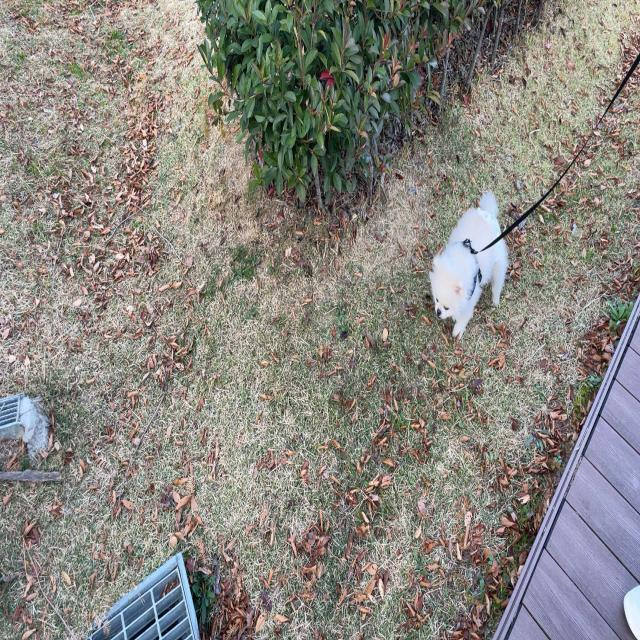Dog: (429, 188, 509, 341)
